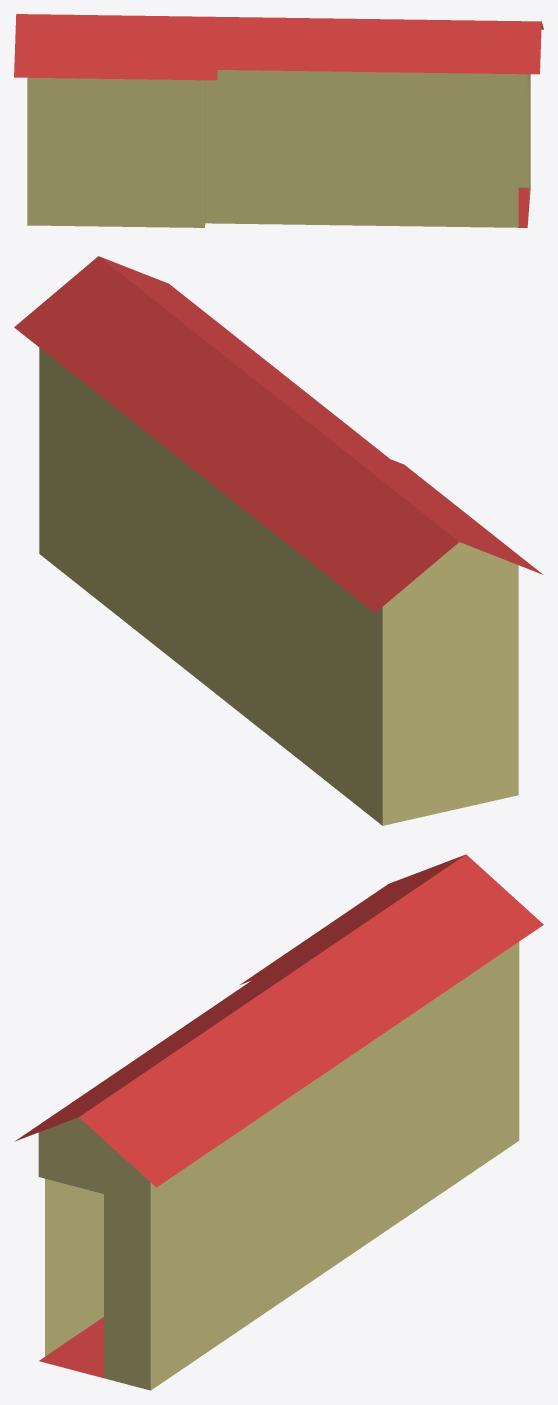
3 renders of one model, top to bottom at view 1: azimuth 30°, elevation 25°; view 2: azimuth 150°, elevation 25°; view 3: azimuth 270°, elevation 25°, orthographic. The views are drawn at different scales.
Visible parts, largest first — view 1: group_5, group_3, group_4, group_6; view 2: group_5, group_3, group_4; view 3: group_5, group_3, group_4, group_6.
Boxes of the visible parts, x1,y1,x2,y2 form: group_5: (27, 70, 530, 227); group_3: (16, 14, 543, 80); group_4: (14, 15, 541, 80); group_6: (518, 187, 529, 227); group_5: (39, 348, 518, 825); group_3: (39, 256, 517, 612); group_4: (14, 256, 543, 611); group_5: (38, 942, 519, 1390); group_3: (39, 855, 543, 1167); group_4: (14, 854, 542, 1187); group_6: (39, 1317, 103, 1378).
Bounding box in the file's own units: 30.21 × 22.27 × 12.21.
